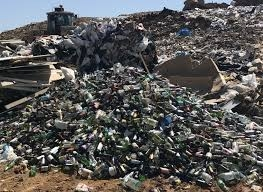glass: (214, 175, 227, 190), (130, 157, 146, 165), (39, 154, 47, 166)
